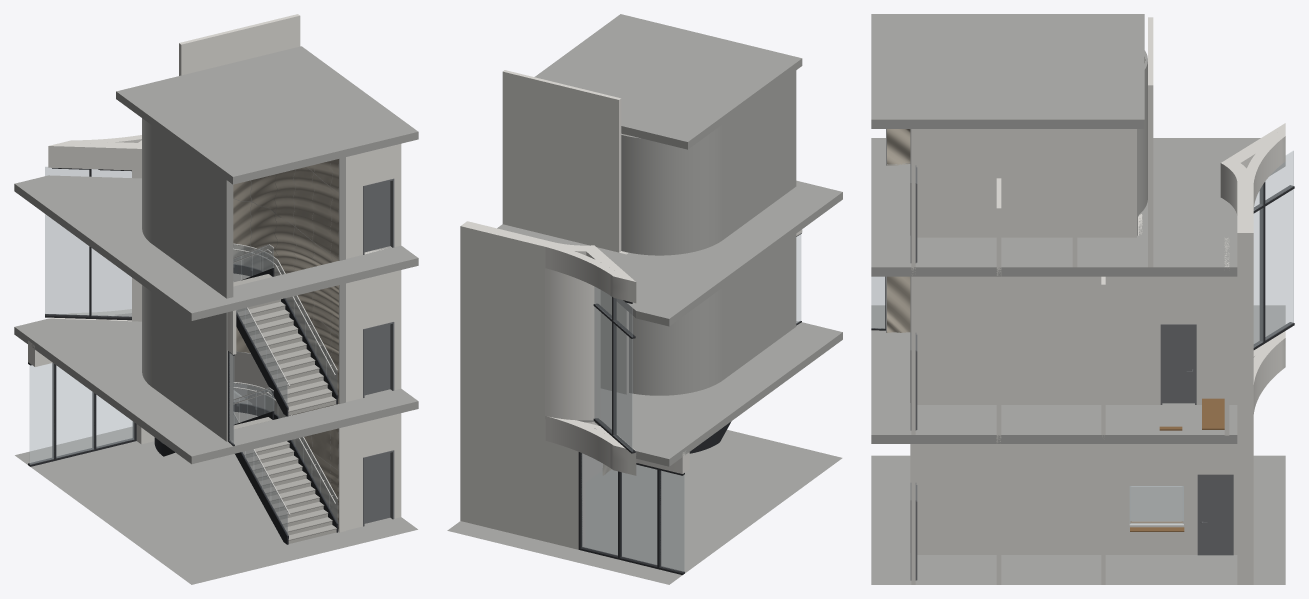
The model's file is opera_stair.glb.
3 renders of one model, left to right at view 1: azimuth 30°, elevation 25°; view 2: azimuth 150°, elevation 25°; view 3: azimuth 270°, elevation 25°, orthographic. The views are drawn at different scales.
Visible parts, largest first — view 1: A-FLOR (×11), I-WALL (×8), WAVE 1 (×13), GLASS_EXT (×5), STAIR TREADS AND LANDING (×2), SPEC (×9), Layer 02 (×2), STAIR STRINGERS (×2), System Panel; view 2: A-FLOR (×8), I-WALL (×7), GLASS_EXT (×6), Rectangular Mullion, System Panel; view 3: I-WALL (×15), A-FLOR (×7), GLASS_EXT (×3), 08_Door_Single_Frame Type 2 (×2), WAVE 1 (×2), Fixed, Rectangular Mullion, System Panel, 12_Counter_Straight.
Part boxes in pixels (box(x1,y1,x2,y2)): A-FLOR (×11): box(14, 46, 418, 584); I-WALL (×8): box(28, 14, 401, 530); WAVE 1 (×13): box(233, 167, 338, 508); GLASS_EXT (×5): box(29, 214, 134, 464); STAIR TREADS AND LANDING (×2): box(236, 299, 336, 543); SPEC (×9): box(363, 178, 394, 526); Layer 02 (×2): box(281, 161, 345, 532); STAIR STRINGERS (×2): box(235, 317, 288, 544); System Panel: box(229, 352, 234, 444); A-FLOR (×8): box(447, 14, 842, 584); I-WALL (×7): box(460, 70, 689, 549); GLASS_EXT (×6): box(581, 298, 684, 571); Rectangular Mullion: box(612, 321, 616, 436); System Panel: box(796, 234, 801, 323); I-WALL (×15): box(911, 17, 1285, 584); A-FLOR (×7): box(871, 14, 1285, 584); GLASS_EXT (×3): box(1253, 150, 1293, 347); 08_Door_Single_Frame Type 2 (×2): box(1162, 326, 1231, 555); WAVE 1 (×2): box(887, 129, 910, 332); Fixed: box(1132, 487, 1181, 521); Rectangular Mullion: box(1259, 206, 1265, 343); System Panel: box(871, 276, 885, 328); 12_Counter_Straight: box(1202, 398, 1224, 429).
Size of the model in its own units: 0.1402 by 0.2524 by 0.1938.
